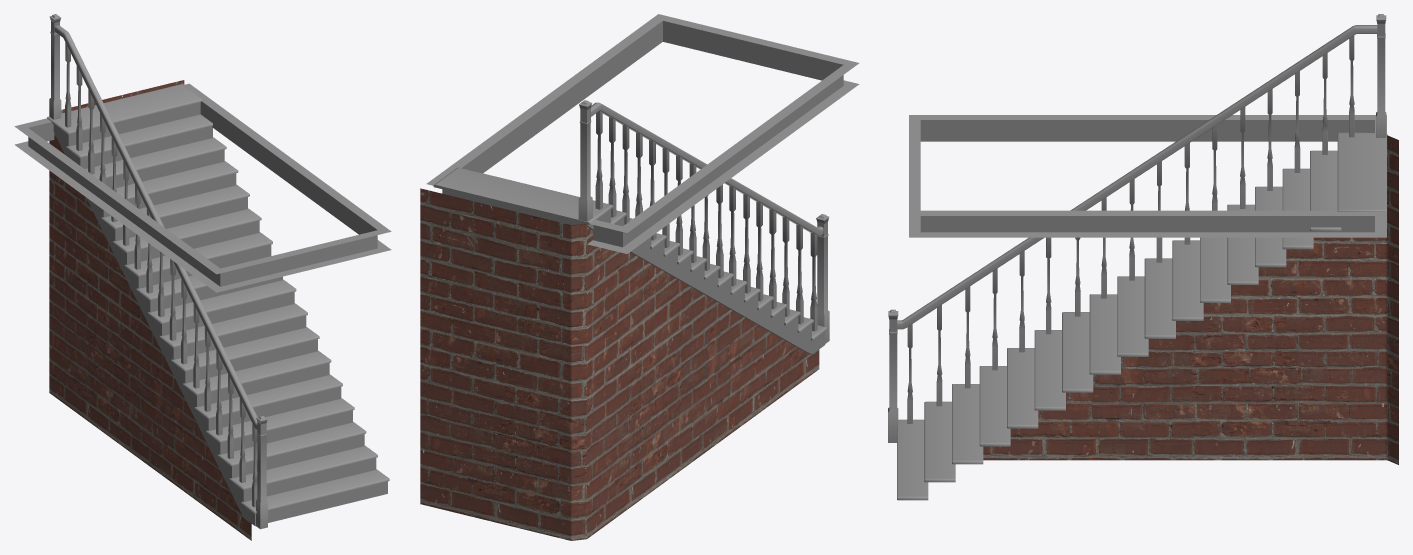
Rendered from In_Stairs.FBX.
3 views of the same model, side by side, from view 1: azimuth 30°, elevation 25°; view 2: azimuth 150°, elevation 25°; view 3: azimuth 270°, elevation 25° (orthographic). The views are drawn at different scales.
Visible parts, largest first — view 1: In_Stairs, In_Stairs_Frame; view 2: In_Stairs, In_Stairs_Frame; view 3: In_Stairs, In_Stairs_Frame.
Boxes of the visible parts, bbox=[...] form: In_Stairs: bbox=[47, 14, 389, 540]; In_Stairs_Frame: bbox=[14, 83, 391, 292]; In_Stairs: bbox=[420, 100, 829, 540]; In_Stairs_Frame: bbox=[426, 14, 859, 253]; In_Stairs: bbox=[888, 14, 1398, 500]; In_Stairs_Frame: bbox=[909, 115, 1386, 237].
Bounding box in the file's own units: 200 × 413 × 427.
